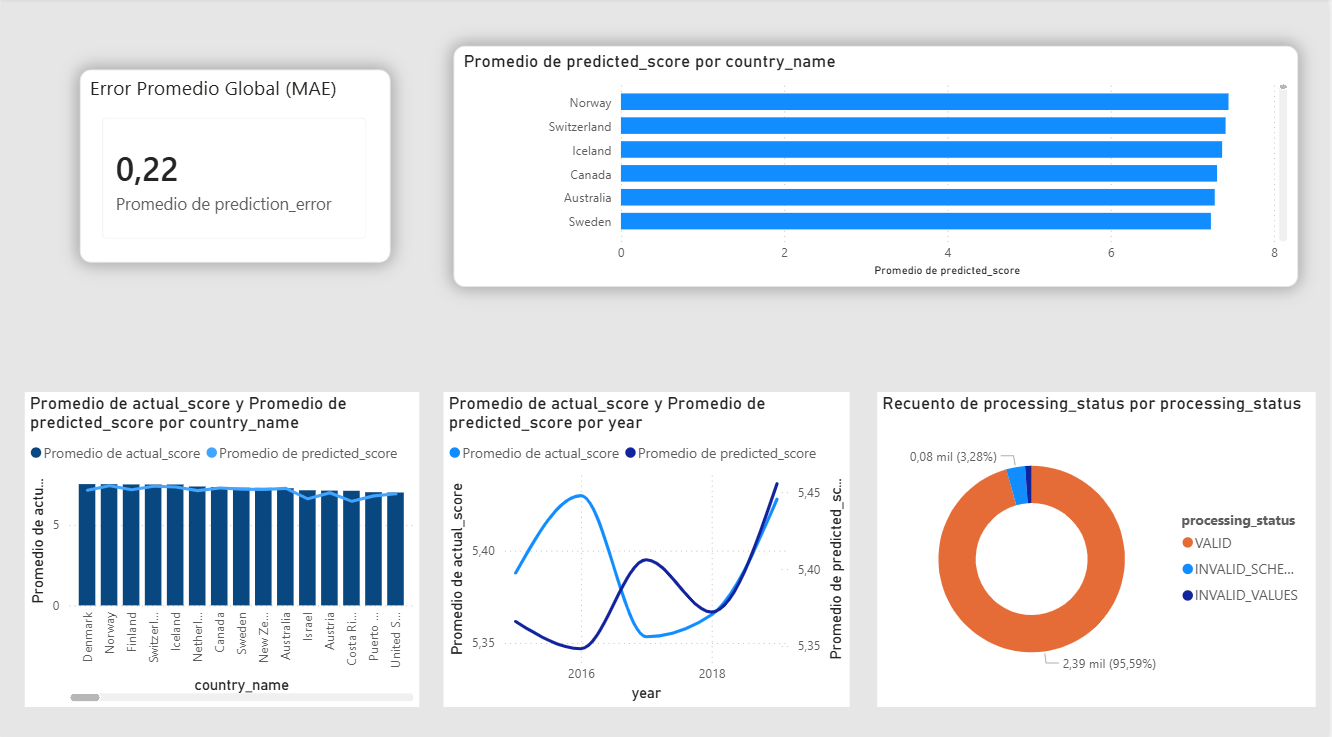

The dashboard page shown, as its layout file describes it:
{"tool":"powerbi","page":{"name":"Página 1","canvas":[1280,720],"ordinal":0},"visuals":[{"type":"cardVisual","title":"Error Promedio Global (MAE)","fields":{"Data":["Avg(public fact_predictions.prediction_error)"]},"box":[75.6,70.6,299.9,186.5],"z":0},{"type":"clusteredBarChart","fields":{"Category":["public dim_country.country_name"],"Y":["Avg(public fact_predictions.predicted_score)"]},"box":[437.3,46.6,815.3,233.1],"z":1},{"type":"lineClusteredColumnComboChart","fields":{"Category":["public dim_country.country_name"],"Y":["Avg(public fact_predictions.actual_score)"],"Y2":["Avg(public fact_predictions.predicted_score)"]},"box":[22.7,381.8,380.5,303.7],"z":2},{"type":"lineChart","fields":{"Category":["public dim_date.year"],"Y":["Avg(public fact_predictions.actual_score)"],"Y2":["Avg(public fact_predictions.predicted_score)"]},"box":[427.2,381.8,391.9,303.7],"z":3},{"type":"donutChart","fields":{"Category":["public raw_happiness_events.processing_status"],"Y":["CountNonNull(public raw_happiness_events.processing_status)"]},"box":[845.5,381.8,423.4,303.7],"z":4}]}

Visuals, with their boxes in screenshot pixels (x1, y1, x2, y2), scaled from the page's 1280x720 canvas onto the 1332x737 screenshot:
"Error Promedio Global (MAE)" cardVisual: <bbox>79, 72, 391, 263</bbox>
clusteredBarChart - public dim_country.country_name x Avg(public fact_predictions.predicted_score): <bbox>455, 48, 1303, 286</bbox>
lineClusteredColumnComboChart - public dim_country.country_name x Avg(public fact_predictions.actual_score): <bbox>24, 391, 420, 702</bbox>
lineChart - public dim_date.year x Avg(public fact_predictions.actual_score): <bbox>445, 391, 852, 702</bbox>
donutChart - public raw_happiness_events.processing_status x CountNonNull(public raw_happiness_events.processing_status): <bbox>880, 391, 1320, 702</bbox>
